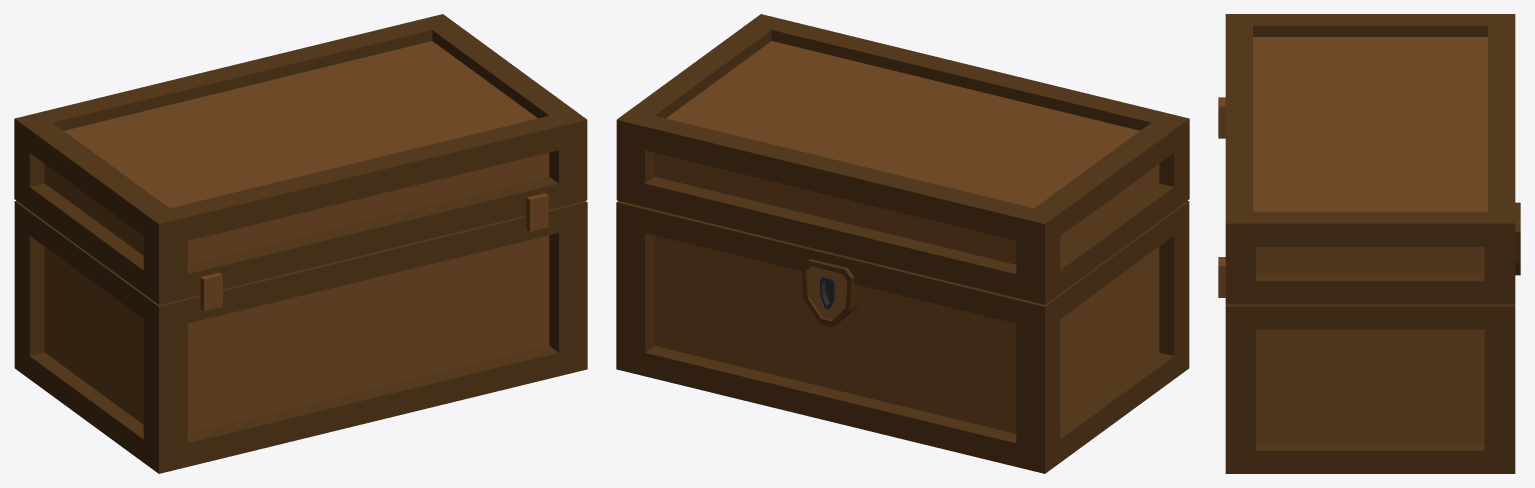
The model's file is G_A_Chest.fbx.
The picture shows the model from 3 angles, left to right: view 1: azimuth 30°, elevation 25°; view 2: azimuth 150°, elevation 25°; view 3: azimuth 270°, elevation 25°; orthographic projection.
Parts seen in each view (by area): view 1: G_A_ChestTop, G_A_Chest; view 2: G_A_ChestTop, G_A_Chest; view 3: G_A_ChestTop, G_A_Chest.
Boxes of the visible parts, x1,y1,x2,y2 form: G_A_ChestTop: [14, 14, 587, 304]; G_A_Chest: [14, 193, 587, 473]; G_A_ChestTop: [616, 14, 1189, 304]; G_A_Chest: [616, 200, 1189, 473]; G_A_ChestTop: [1225, 14, 1515, 304]; G_A_Chest: [1218, 97, 1520, 473].
Bounding box in the file's own units: 157 × 87.62 × 95.8.
